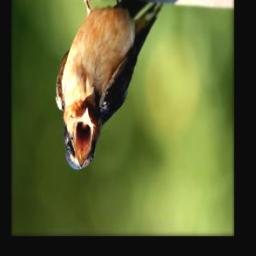Swallow: (55, 0, 165, 172)
